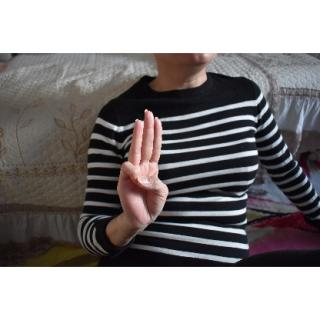THA: (117, 104, 169, 234)
